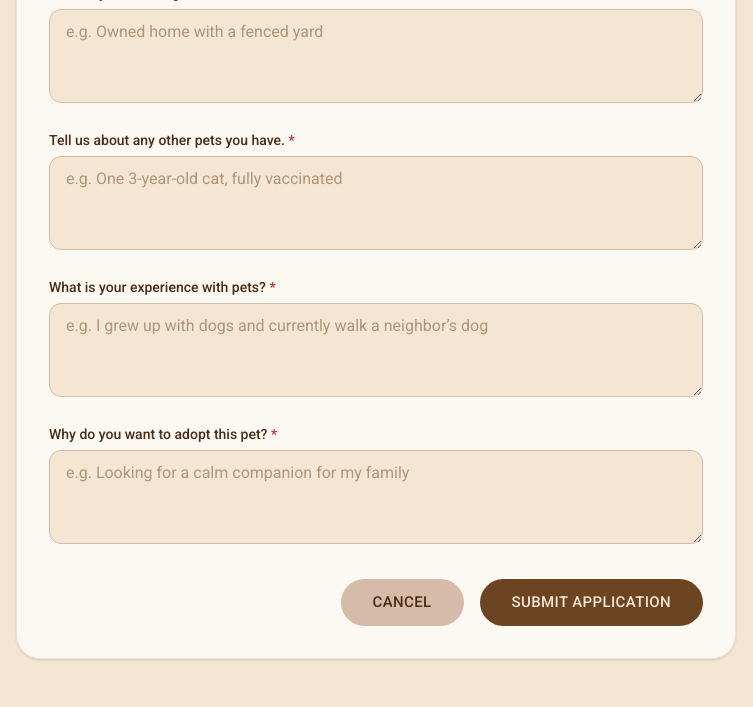
Test: ApplyForAdoption › requires all fields before submitting
(page scrolled)
Click the button "Submit Application".
click(591, 602)  # box [480, 579, 703, 626]
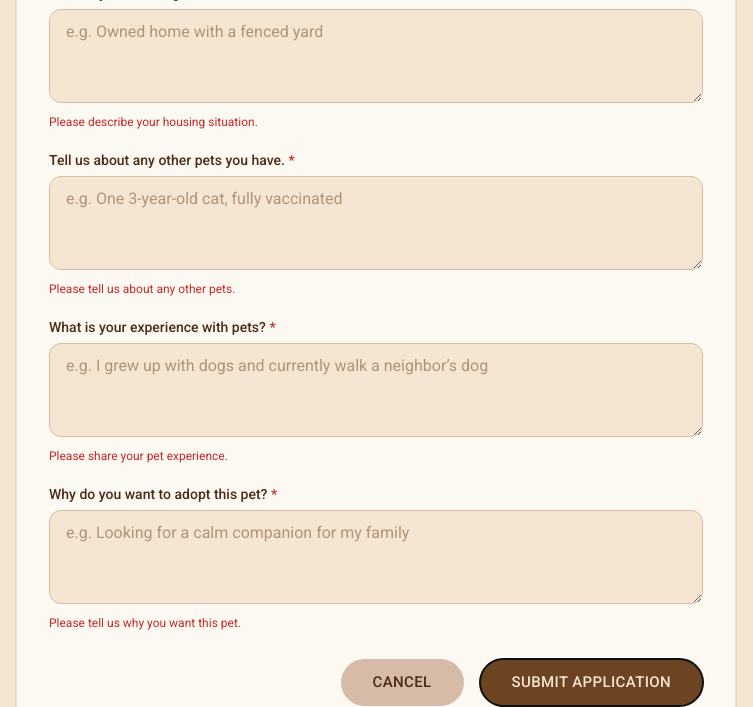
Check: the text "Please describe your housing situation." is shown, box [49, 115, 258, 129]
